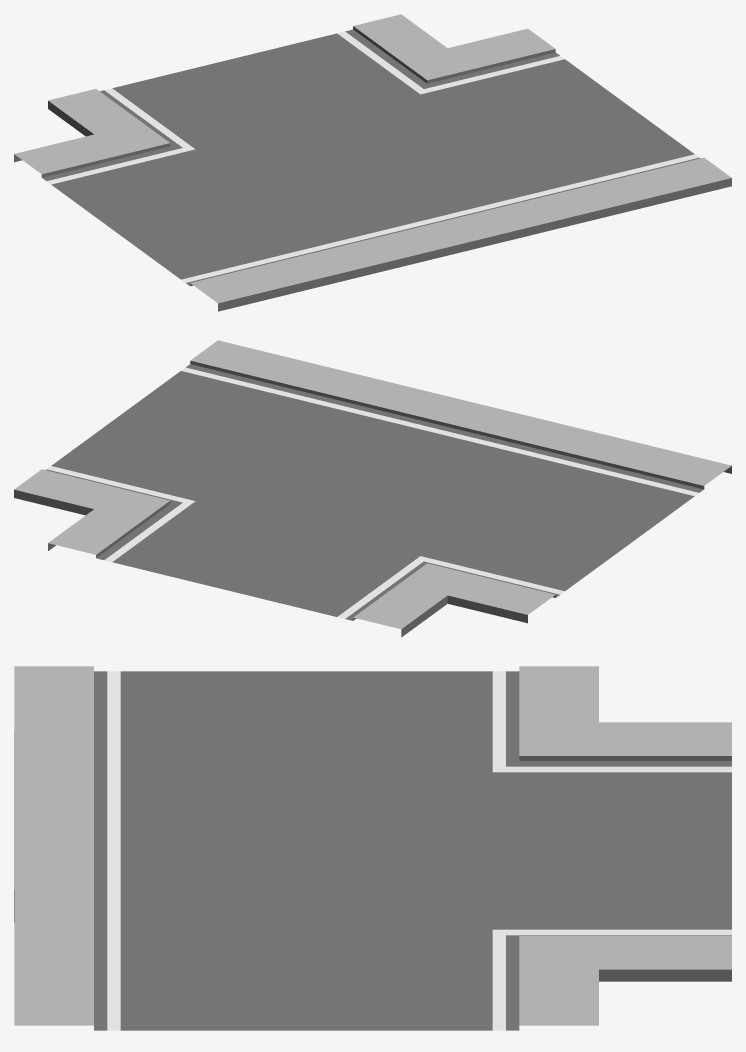
Rendered from Road2.fbx.
3 renders of one model, top to bottom at view 1: azimuth 30°, elevation 25°; view 2: azimuth 150°, elevation 25°; view 3: azimuth 270°, elevation 25°, orthographic. The views are drawn at different scales.
Visible parts, largest first — view 1: 3Road; view 2: 3Road; view 3: 3Road.
Part boxes in pixels (bbox=[...]): 3Road: bbox=[14, 14, 731, 311]; 3Road: bbox=[14, 340, 731, 637]; 3Road: bbox=[14, 666, 731, 1030].
Bounding box in the file's own units: 5495 × 85.27 × 4638.
